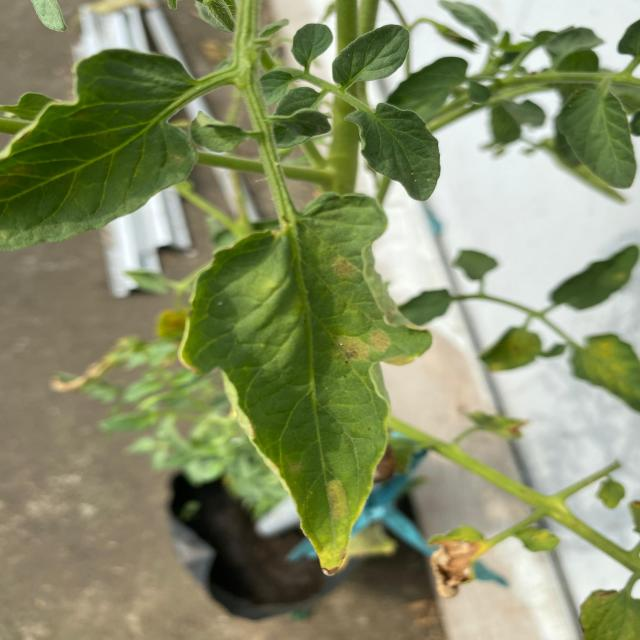Tomato_Late_Blight: (271, 455, 385, 586), (321, 242, 418, 370)
